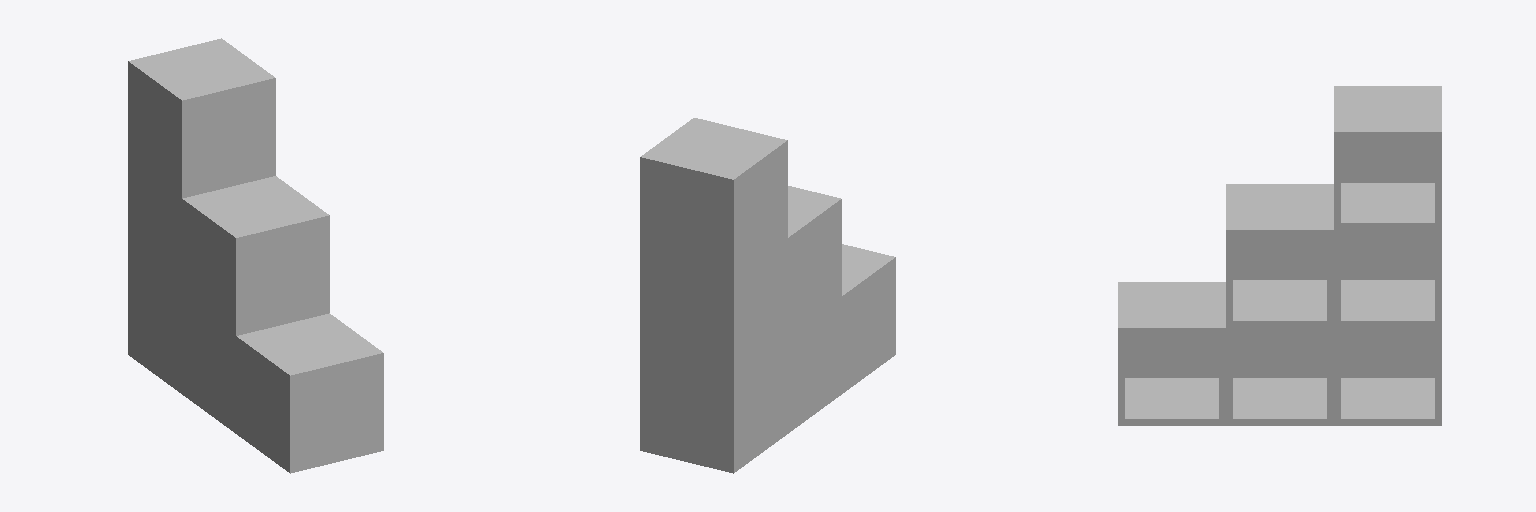
Rendered from stairshelf.obj.
3 renders of one model, left to right at view 1: azimuth 30°, elevation 25°; view 2: azimuth 150°, elevation 25°; view 3: azimuth 270°, elevation 25°, orthographic.
Visible parts, largest first — view 1: pCube24; view 2: pCube24; view 3: pCube24.
Part boxes in pixels (x1,y1,x2,y2): pCube24: (128,38,383,473); pCube24: (640,118,895,473); pCube24: (1118,86,1441,425).
Size of the model in its own units: 0.3326 by 0.9977 by 0.9977.